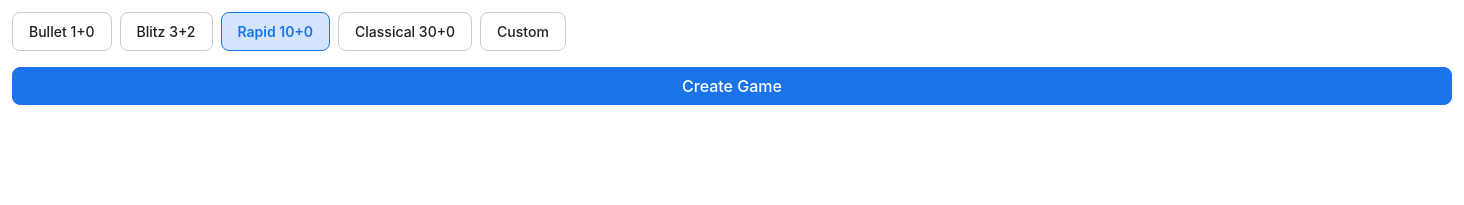
CreateGameForm › hides custom inputs when a preset is selected
Click the button "Custom" at (523, 32), box [480,12,566,51]
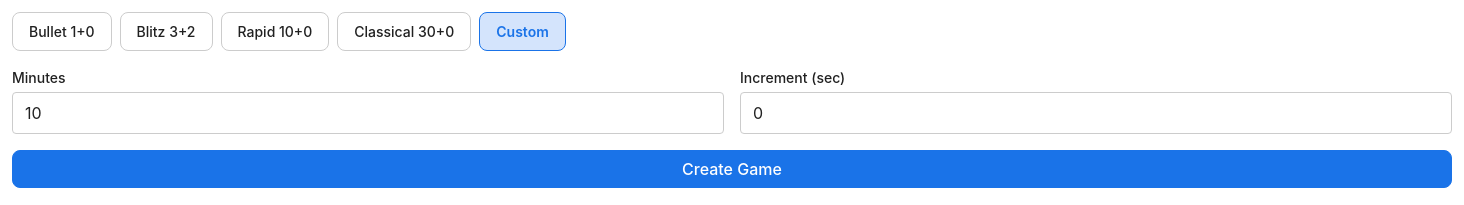
Click the button "Blitz 3+2" at (166, 32), box [120,12,212,51]
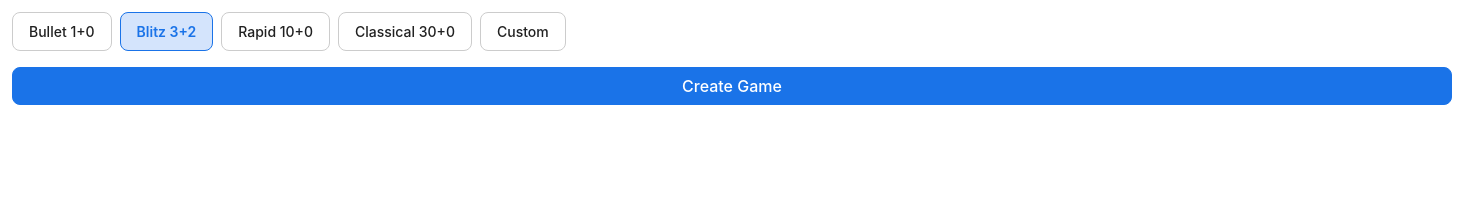
Result: the label labelled "Minutes" is gone
